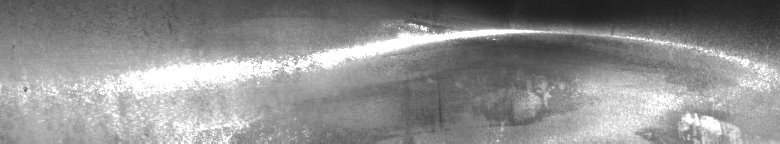ke: (401, 16, 758, 130)
